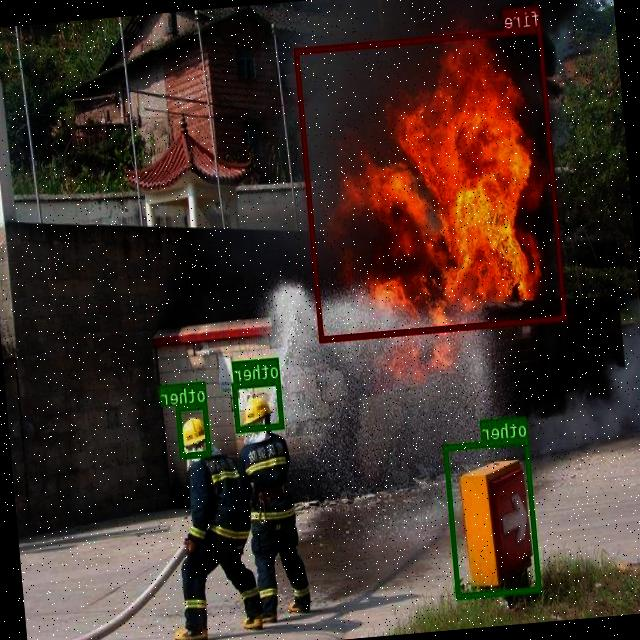fire: (294, 26, 568, 341)
